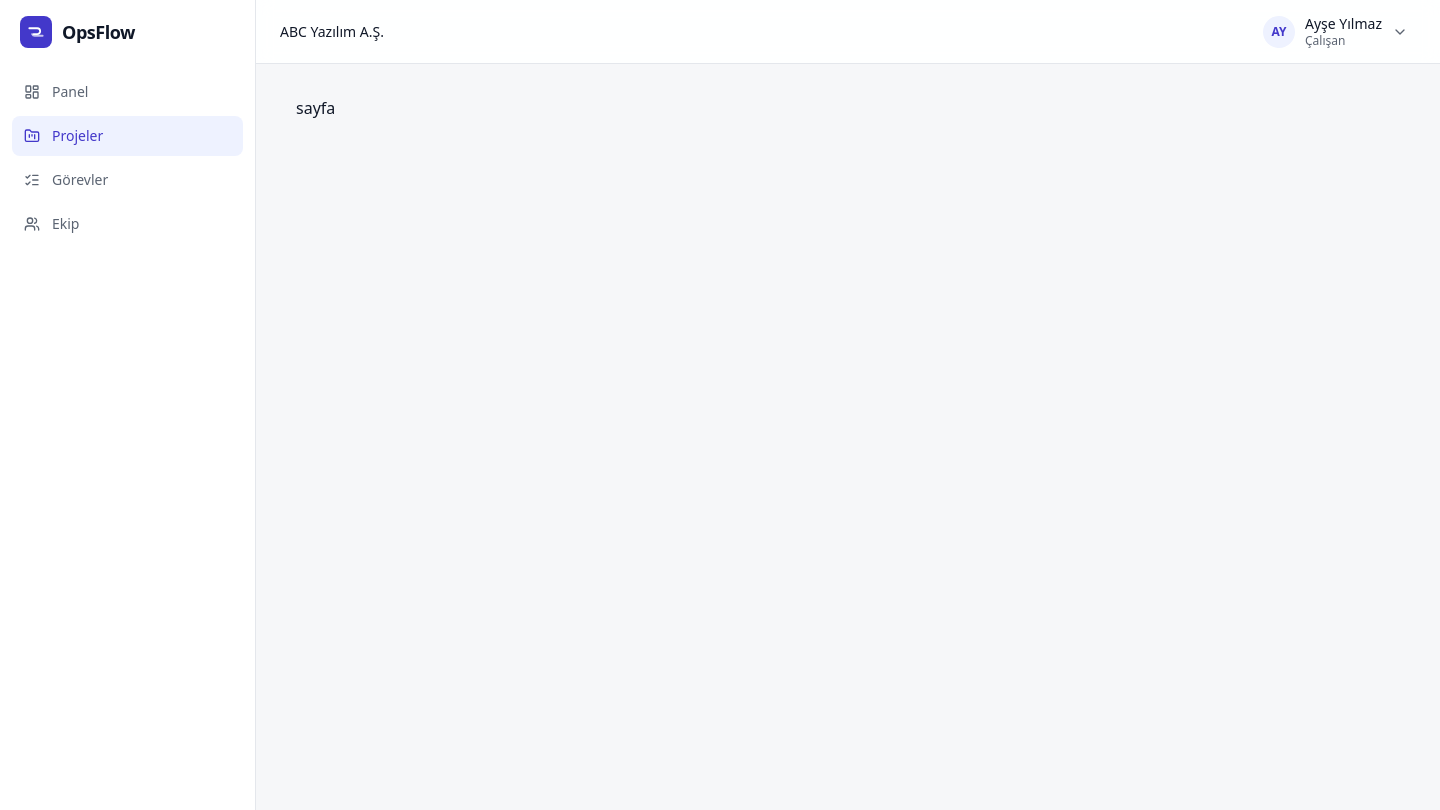
Test: AppShell › signs out from the user menu
Click the button "AY Ayşe Yılmaz Çalışan".
click(1336, 32)  # box [1257, 9, 1416, 54]
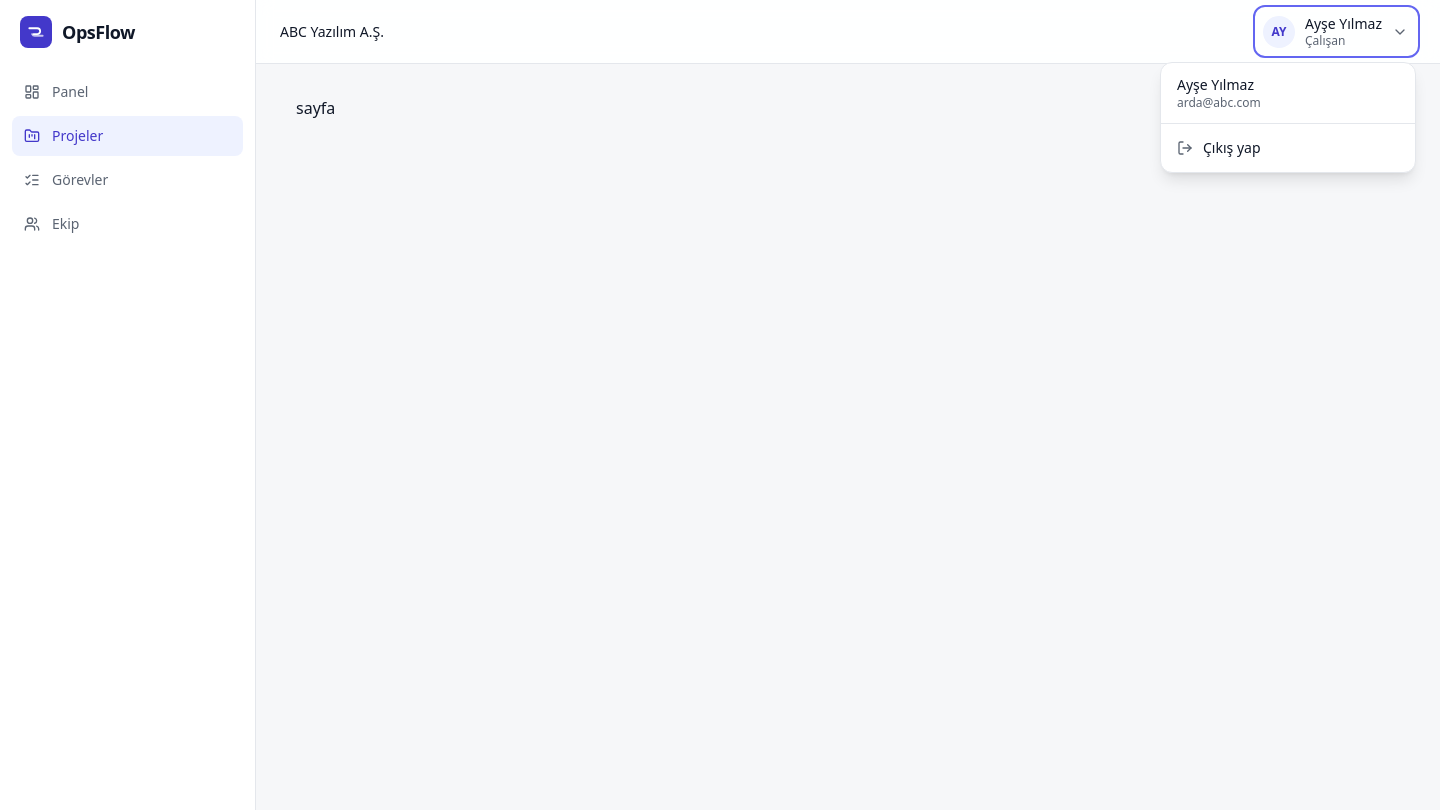
Expected: the menu named "Hesap menüsü" shows "arda@abc.com", [1177, 94, 1261, 111]
Click the menu item "Çıkış yap".
click(1288, 148)  # box [1167, 130, 1409, 166]
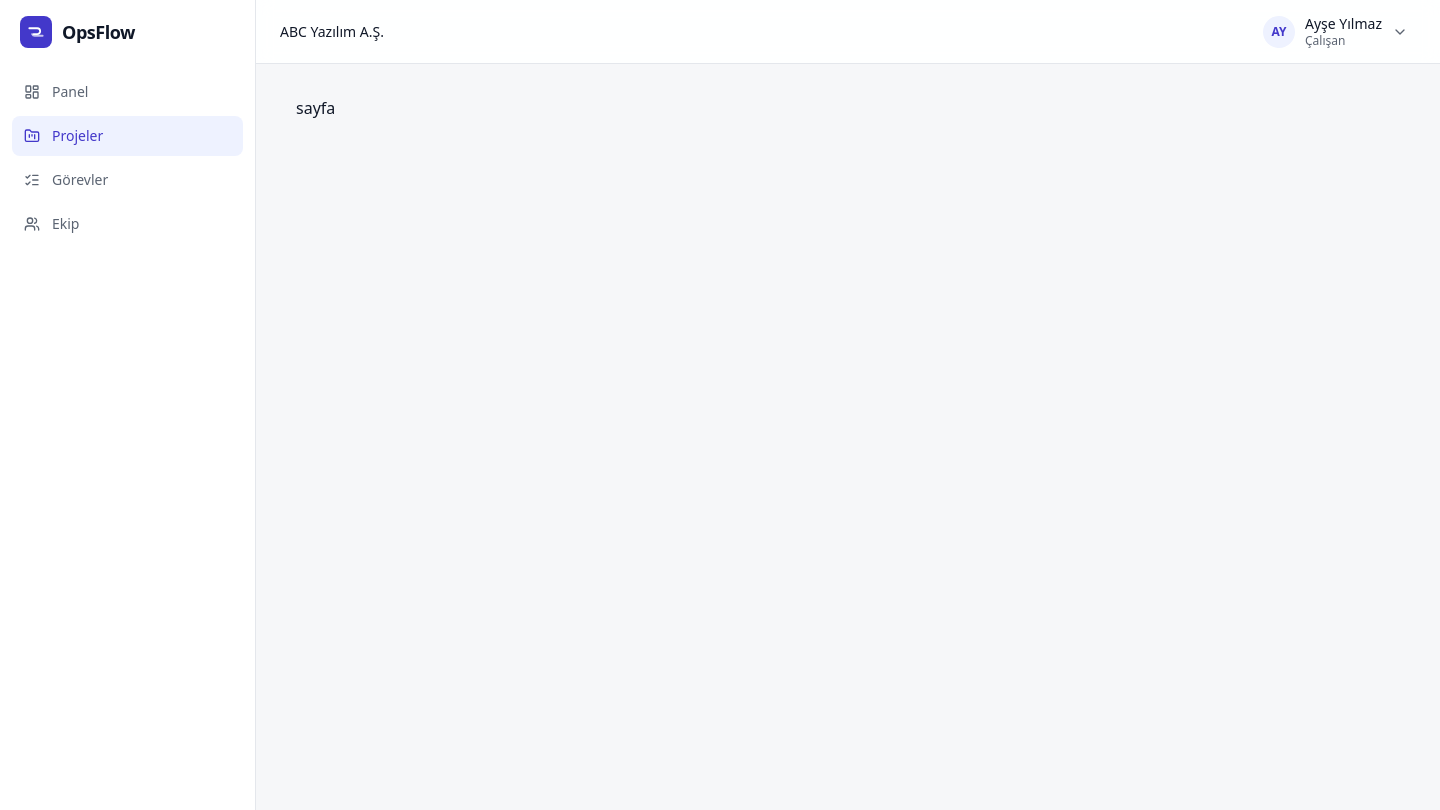
Expected: the menu is gone
